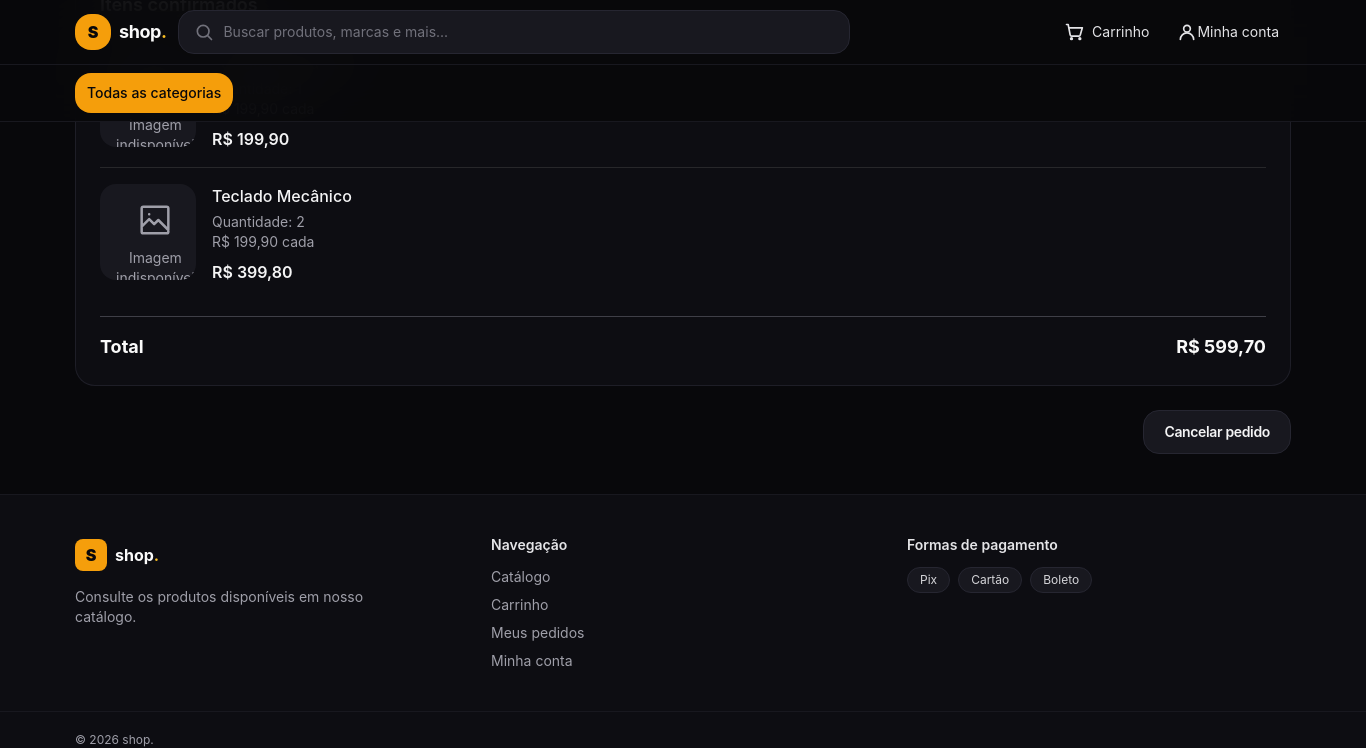
TASK-116 orders integration › sends only Cancelado, announces 422, keeps Criado and reloads detail
(page scrolled)
Click the button "Cancelar pedido" at (1217, 432), box [1143,410,1291,454]
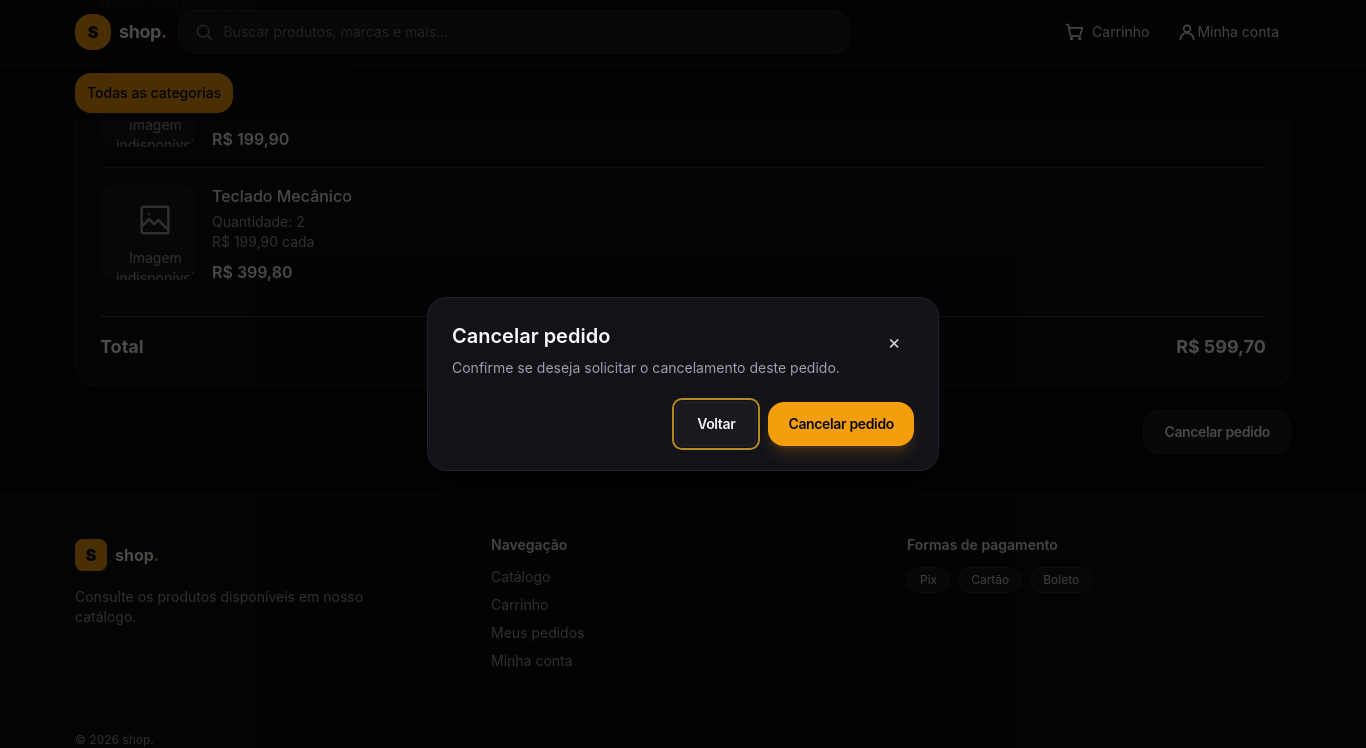
Click the button "Cancelar pedido" at (841, 424), box [768,402,914,446]
(page scrolled)
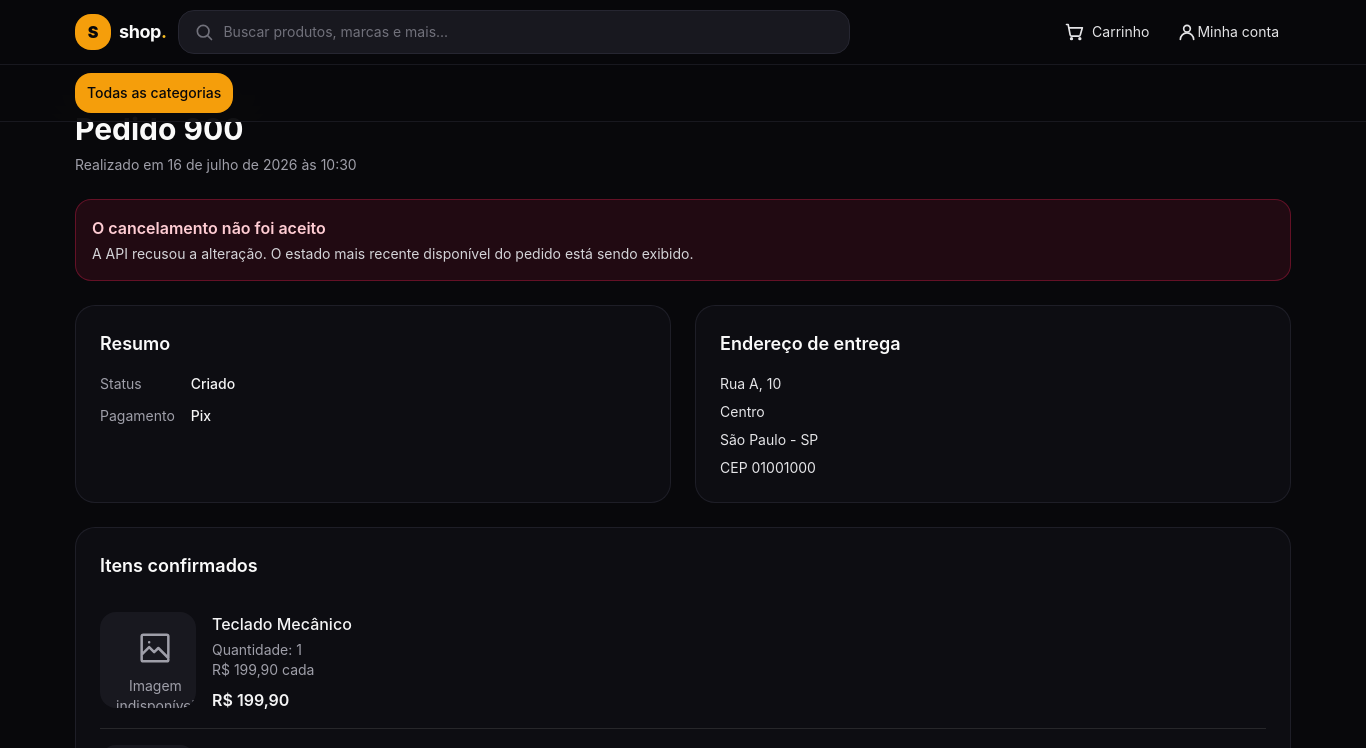
Expected: the text "Criado" is shown, [191,375,235,392]
Result: the text "O cancelamento não foi aceito" is shown at [92,218,326,238]
Result: the text "A API recusou a alteração. O estado mais recente disponível do pedido está sendo exibido." is shown at [92,245,694,262]
